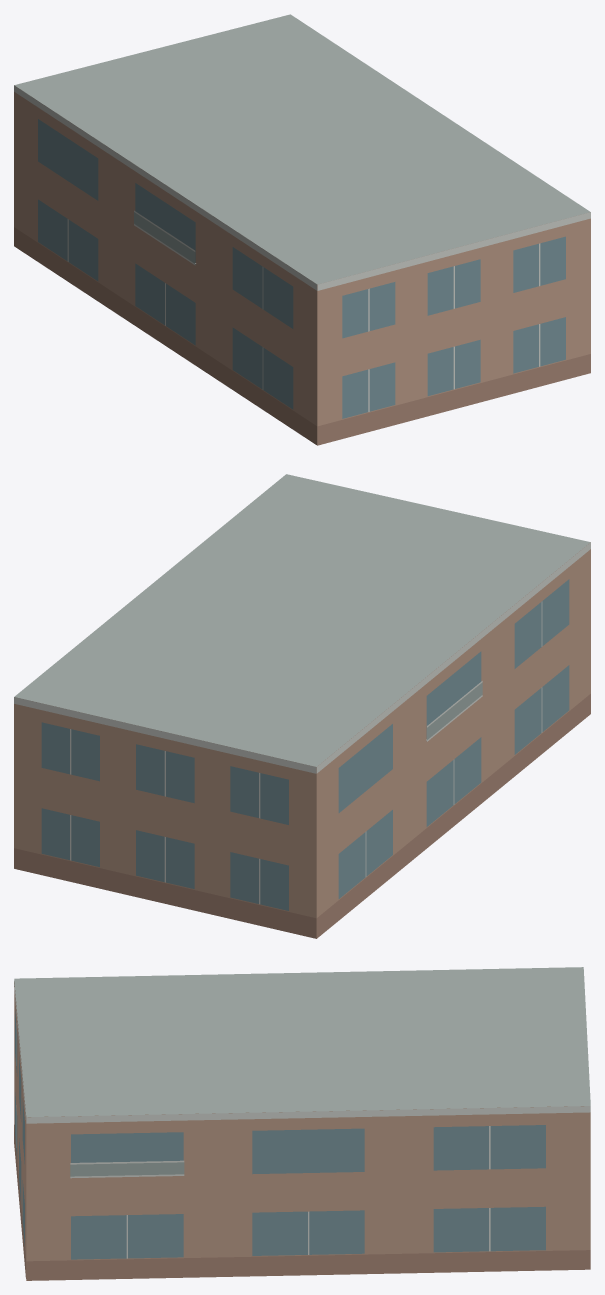
File: survey-upis-32600386.glb
3 views of the same model, one above another, from view 1: azimuth 30°, elevation 25°; view 2: azimuth 150°, elevation 25°; view 3: azimuth 270°, elevation 25° (orthographic). The views are drawn at different scales.
Visible parts, largest first — view 1: survey-upis-32600386.tmp; view 2: survey-upis-32600386.tmp; view 3: survey-upis-32600386.tmp.
Part boxes in pixels (left/top/right/bottom): survey-upis-32600386.tmp: left=14, top=14, right=590, bottom=445; survey-upis-32600386.tmp: left=14, top=474, right=590, bottom=938; survey-upis-32600386.tmp: left=14, top=967, right=590, bottom=1280.
Bounding box in the file's own units: 12.01 × 6.1 × 19.49.
